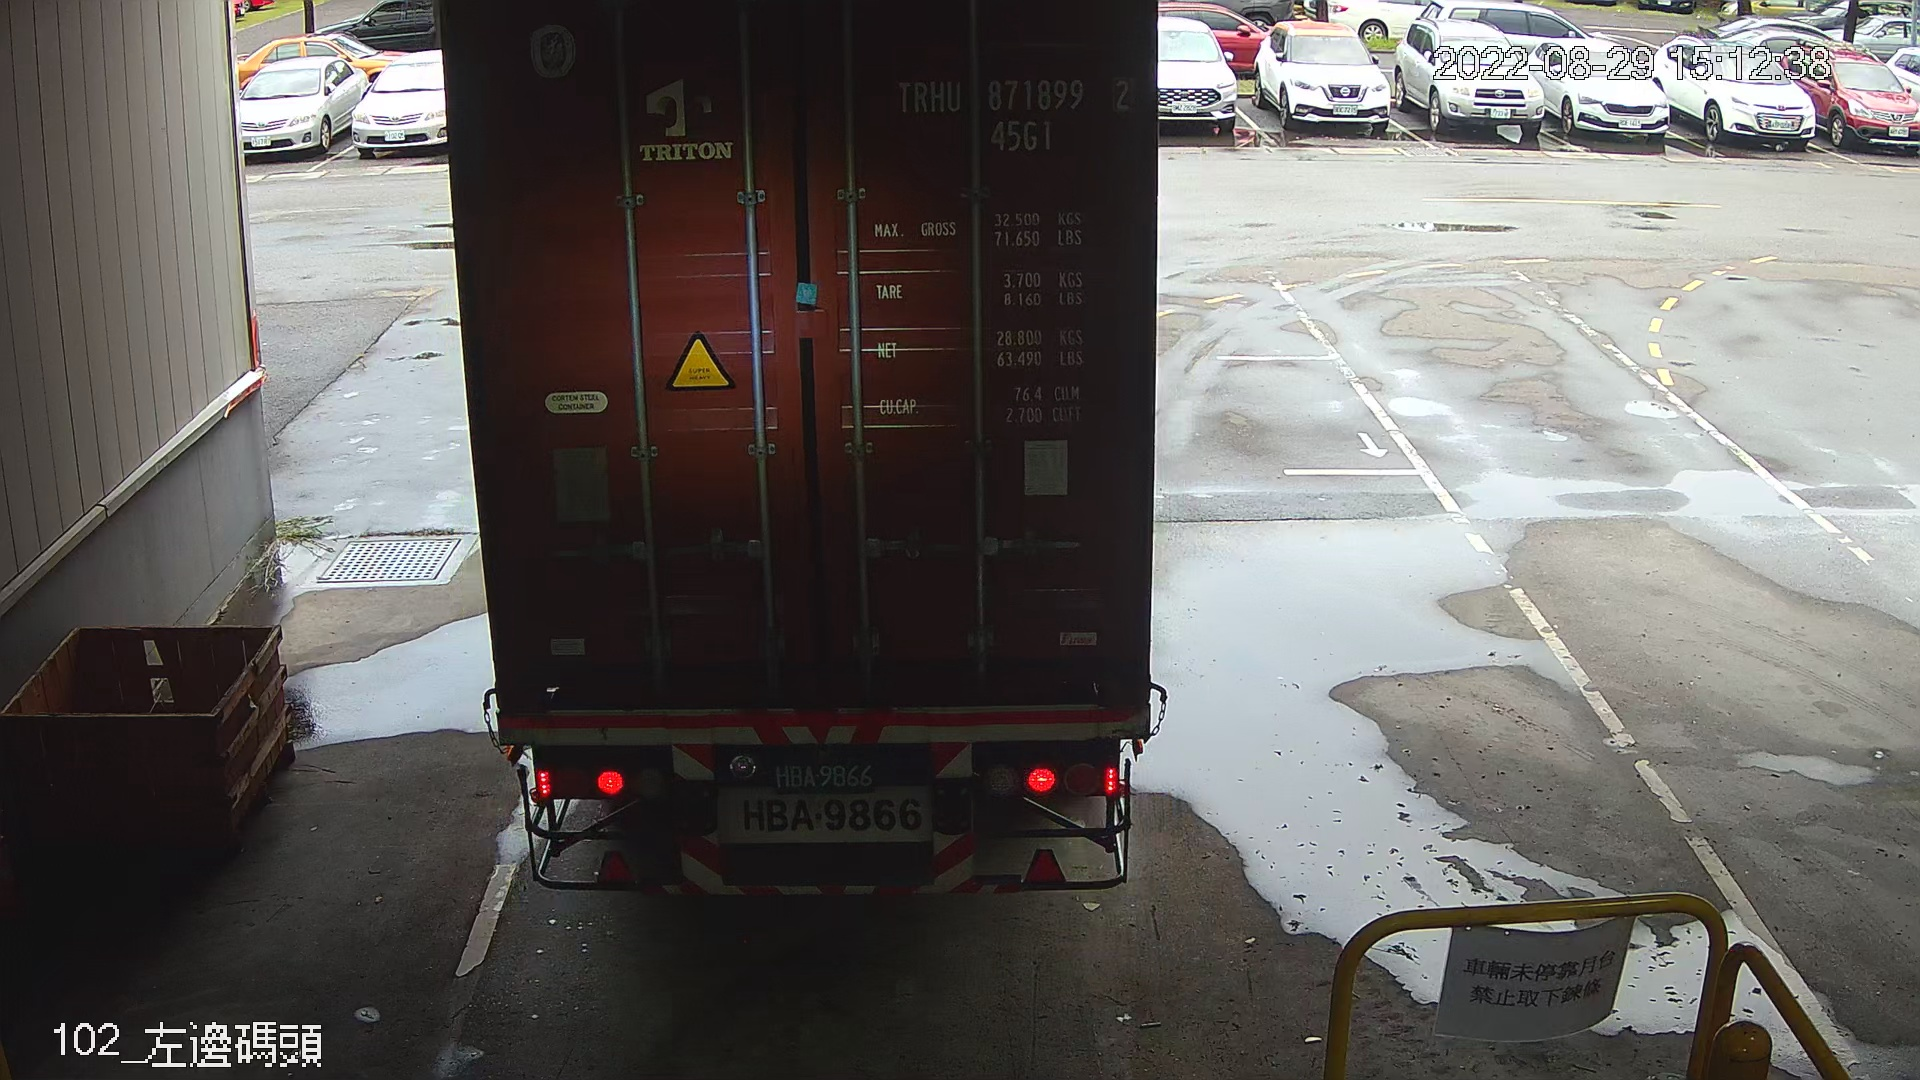container: (887, 67, 1141, 161)
